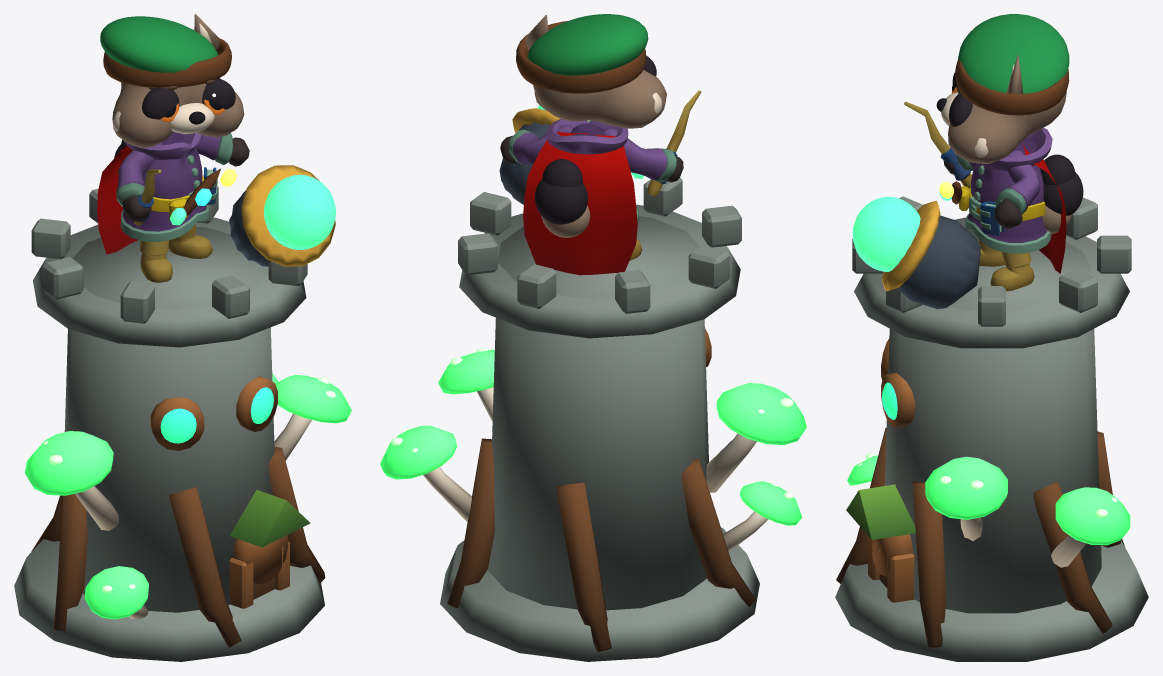
File: tower_badger_t1.glb
3 renders of one model, left to right at view 1: azimuth 30°, elevation 25°; view 2: azimuth 150°, elevation 25°; view 3: azimuth 270°, elevation 25°, orthographic. The views are drawn at different scales.
Parts seen in each view (by area): view 1: CustomTowerBase_badger_t1, Mage_Body, NativeHat_RkBeret, RaccoonBrewCore, RkHead, RaccoonMortarCollar, NativeHat_RkBand, Mage_Cape, Mage_ArmRight, Mage_ArmLeft, Mage_LegRight, RaccoonMortarTube (+5 smaller); view 2: CustomTowerBase_badger_t1, Mage_Cape, NativeHat_RkBeret, RkHead, NativeHat_RkBand, Mage_Body, RaccoonTailSeg_3, Mage_ArmRight, Mage_ArmLeft, RaccoonMortarTube, RaccoonTailSeg_4, 1H_Wand (+2 smaller); view 3: CustomTowerBase_badger_t1, NativeHat_RkBeret, Mage_Body, RaccoonMortarTube, RaccoonBrewCore, RkHead, NativeHat_RkBand, Mage_ArmLeft, RaccoonMortarCollar, Mage_LegLeft, RaccoonTailSeg_3, 1H_Wand (+4 smaller).
Boxes of the visible parts, x1,y1,x2,y2 form: CustomTowerBase_badger_t1: [14, 186, 351, 661]; Mage_Body: [120, 132, 217, 242]; NativeHat_RkBeret: [100, 16, 217, 72]; RaccoonBrewCore: [263, 174, 335, 249]; RkHead: [112, 78, 244, 147]; RaccoonMortarCollar: [241, 165, 335, 266]; NativeHat_RkBand: [103, 38, 231, 87]; Mage_Cape: [97, 146, 137, 254]; Mage_ArmRight: [116, 143, 161, 221]; Mage_ArmLeft: [182, 133, 249, 166]; Mage_LegRight: [140, 240, 172, 282]; RaccoonMortarTube: [229, 190, 269, 266]; CustomTowerBase_badger_t1: [380, 177, 806, 661]; Mage_Cape: [523, 131, 637, 275]; NativeHat_RkBeret: [527, 14, 648, 75]; RkHead: [533, 70, 666, 128]; NativeHat_RkBand: [516, 21, 645, 93]; Mage_Body: [546, 119, 638, 226]; RaccoonTailSeg_3: [534, 179, 587, 224]; Mage_ArmRight: [603, 128, 683, 182]; Mage_ArmLeft: [500, 124, 573, 164]; RaccoonMortarTube: [499, 122, 549, 204]; RaccoonTailSeg_4: [542, 159, 582, 187]; 1H_Wand: [647, 90, 701, 196]; CustomTowerBase_badger_t1: [835, 196, 1148, 661]; NativeHat_RkBeret: [958, 14, 1069, 93]; Mage_Body: [958, 128, 1052, 253]; RaccoonMortarTube: [897, 215, 980, 309]; RaccoonBrewCore: [852, 197, 920, 271]; RkHead: [948, 92, 1066, 163]; NativeHat_RkBand: [955, 59, 1069, 115]; Mage_ArmLeft: [995, 150, 1040, 228]; RaccoonMortarCollar: [882, 200, 940, 291]; Mage_LegLeft: [990, 252, 1034, 291]; RaccoonTailSeg_3: [1043, 172, 1083, 215]; 1H_Wand: [904, 101, 971, 188].
Bounding box in the file's own units: 1.18 × 1.93 × 0.9712.
22 materials, 3 textured.
